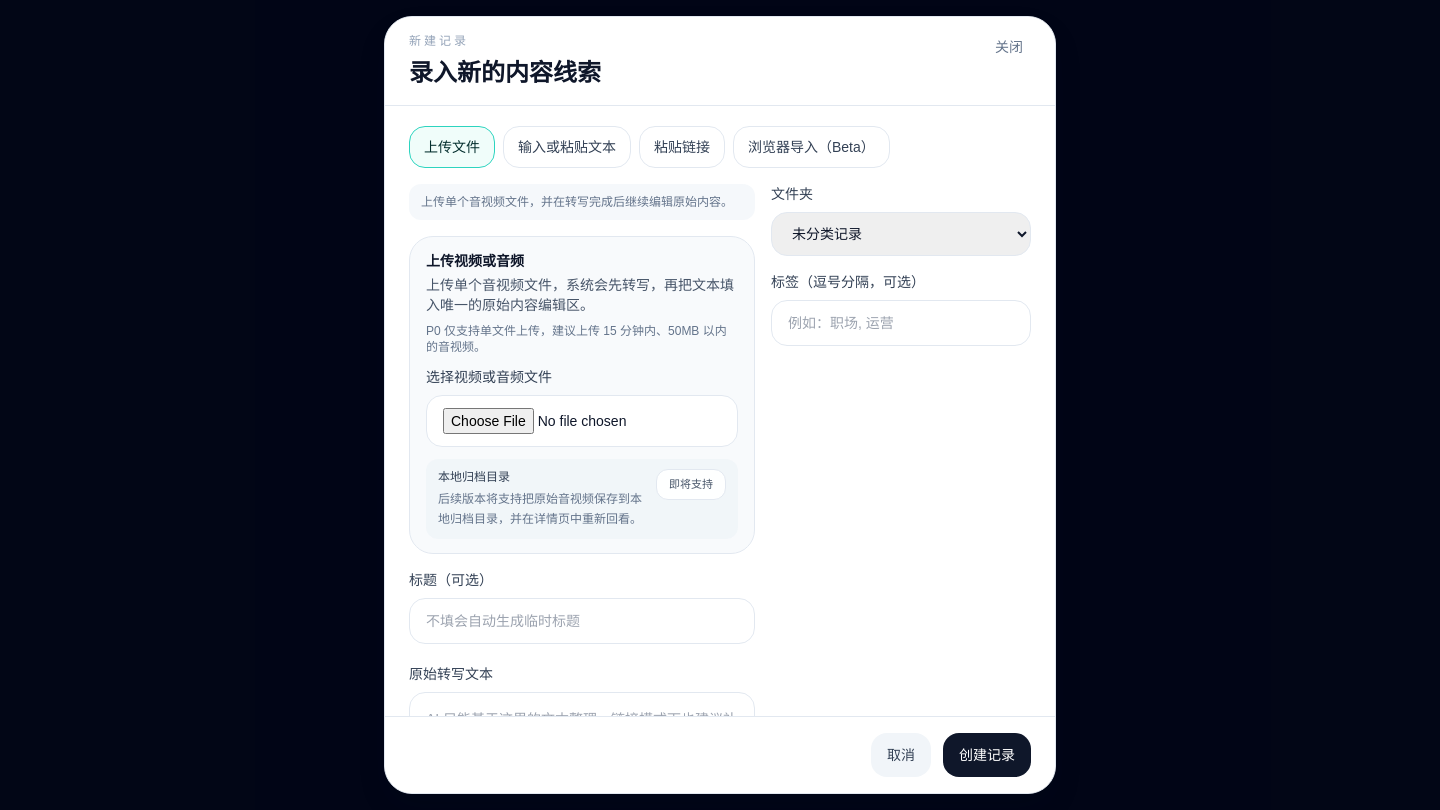
Test case: CreateRecordModal upload flow › shows browser import notice only in browser mode and clears it after switching back to paste-link
Click the button "浏览器导入（Beta）" at [811, 147], box left=733, top=126, right=890, bottom=168
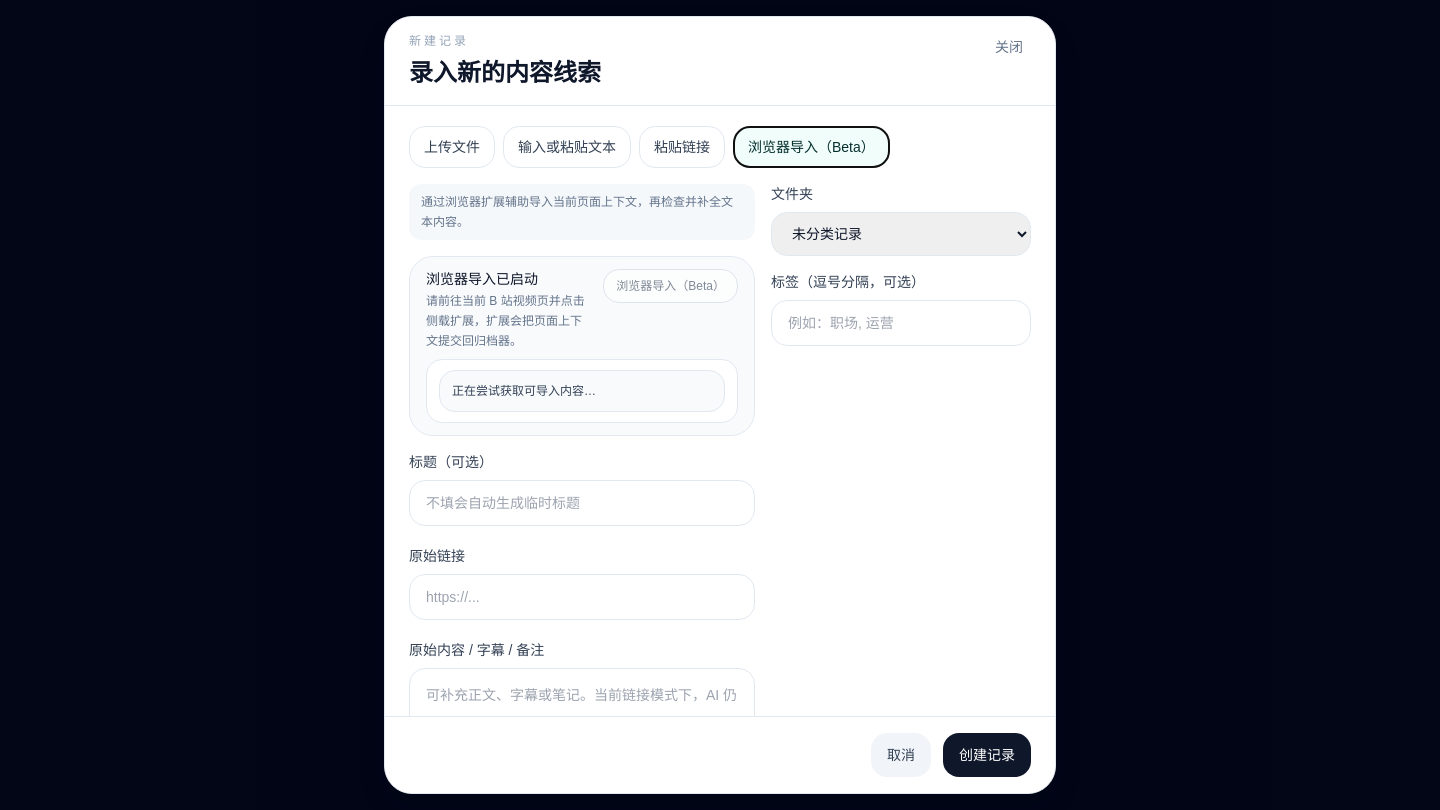
expect the text "浏览器导入已启动" is shown: met, box left=426, top=271, right=538, bottom=287
expect the text "请前往当前 B 站视频页并点击侧载扩展，扩展会把页面上下文提交回归档器。" is shown: met, box left=426, top=291, right=591, bottom=351
Click the button "粘贴链接" at [682, 147], box left=639, top=126, right=725, bottom=168
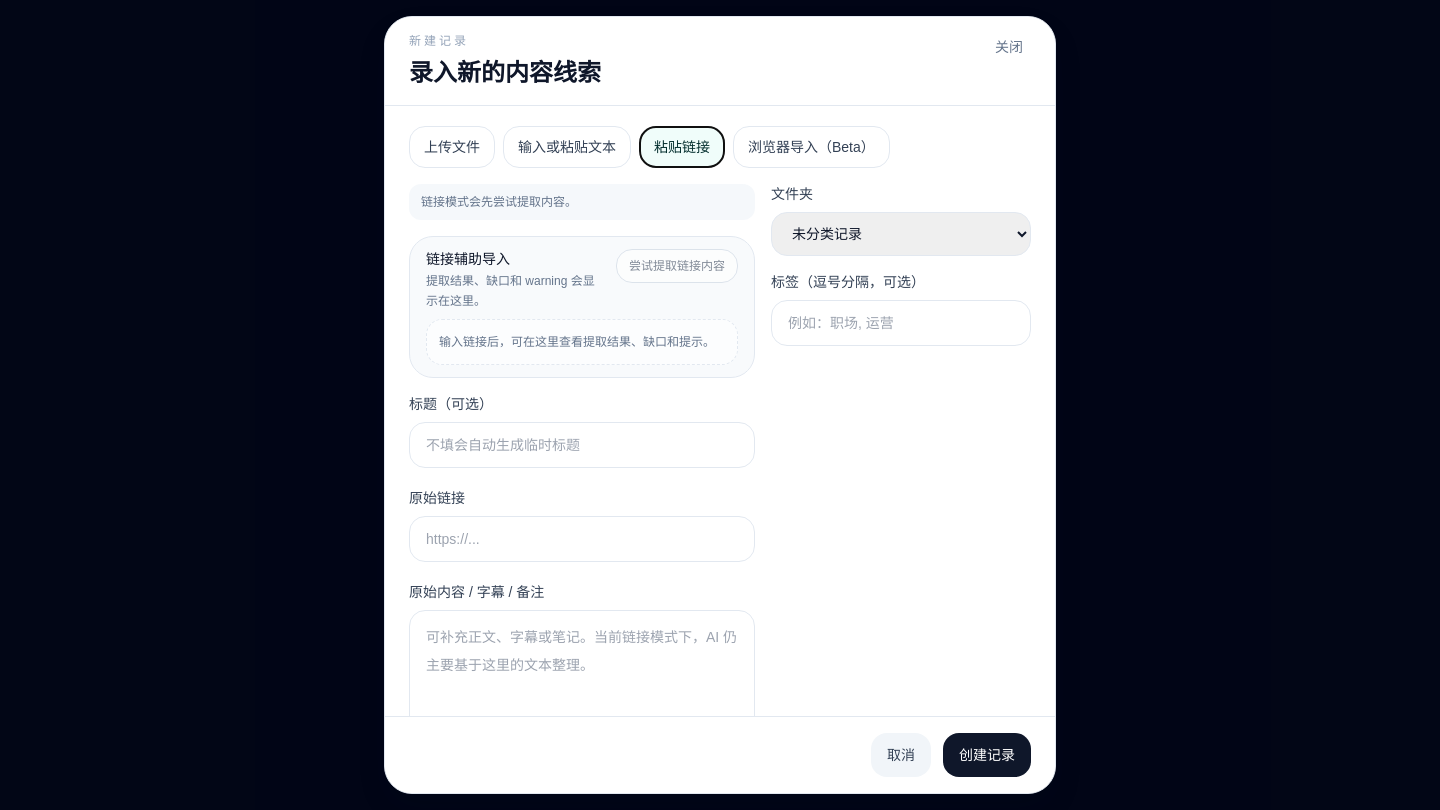
expect the text "浏览器导入已启动" is gone: met
expect the text "请前往当前 B 站视频页并点击侧载扩展，扩展会把页面上下文提交回归档器。" is gone: met
expect the text "链接辅助导入" is shown: met, box left=426, top=251, right=510, bottom=267
